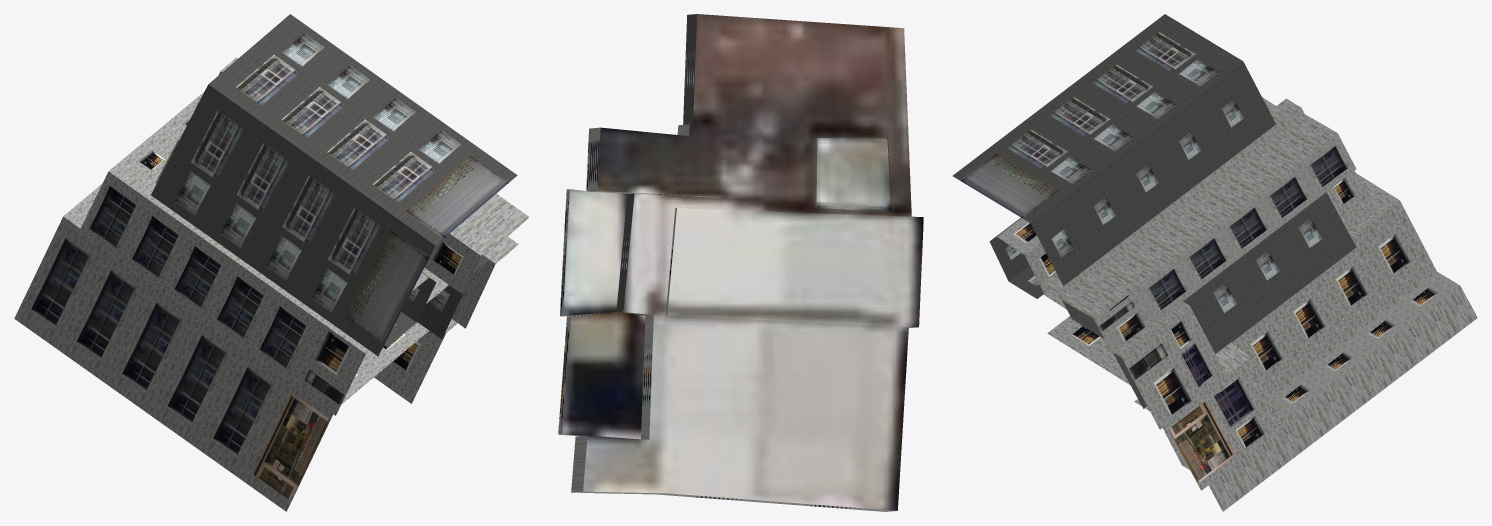
3 renders of one model, left to right at view 1: azimuth 30°, elevation 25°; view 2: azimuth 150°, elevation 25°; view 3: azimuth 270°, elevation 25°, orthographic. The views are drawn at different scales.
Size of the model in its own units: 25.9 by 27.58 by 31.78.
Materials: 26 (26 with a texture image).
